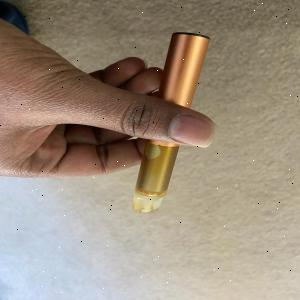Golden-E-Ciggirate: (125, 29, 216, 219)
